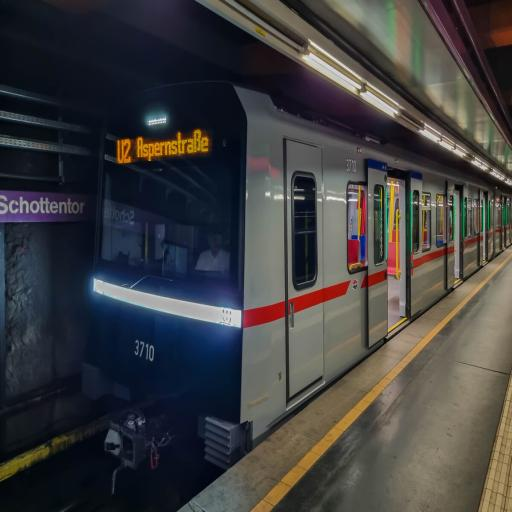X-Wagen: (76, 70, 512, 444)
